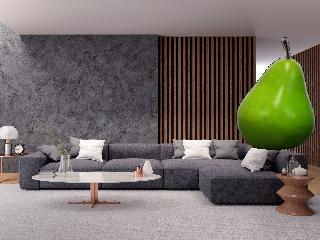pear: (234, 35, 317, 152)
